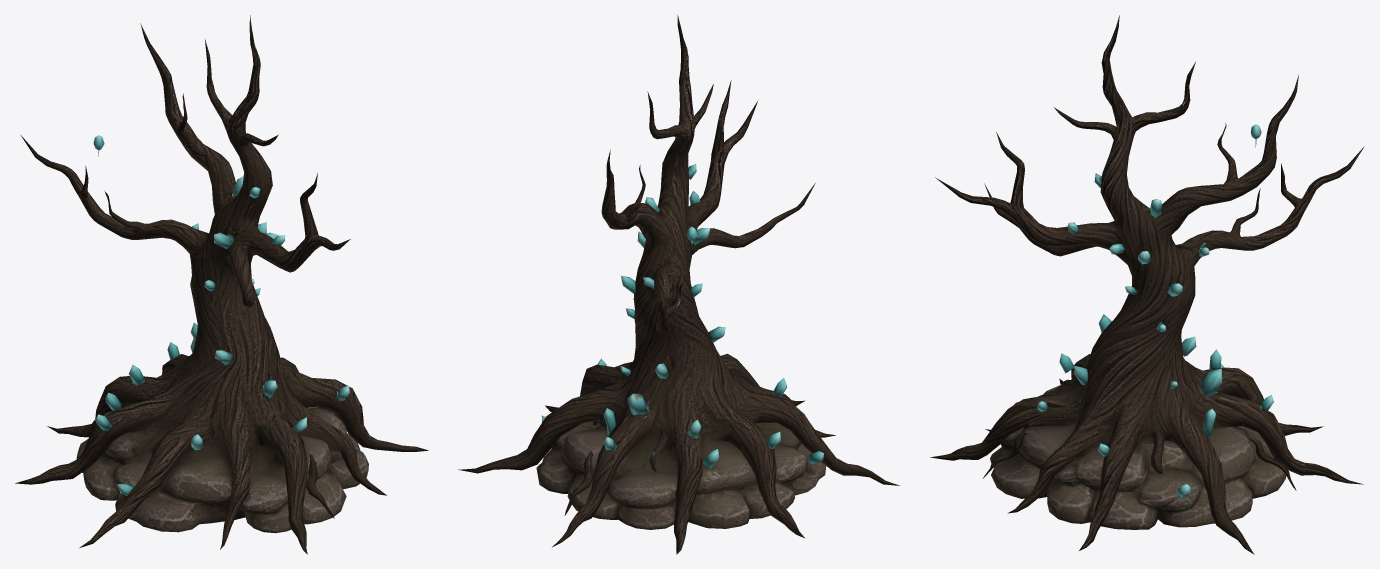
Rendered from tripo_convert_1d10e098-4205-49b0-ae51-91fbd6879b02.fbx.
3 renders of one model, left to right at view 1: azimuth 30°, elevation 25°; view 2: azimuth 150°, elevation 25°; view 3: azimuth 270°, elevation 25°, orthographic. The views are drawn at different scales.
Parts seen in each view (by area): view 1: tripo_node_1d10e098; view 2: tripo_node_1d10e098; view 3: tripo_node_1d10e098.
Part boxes in pixels (x1,y1,x2,y2): tripo_node_1d10e098: (15, 15, 428, 554); tripo_node_1d10e098: (458, 15, 899, 554); tripo_node_1d10e098: (930, 15, 1364, 554).
Size of the model in its own units: 0.8105 by 0.998 by 0.8457.
Materials: 1 (1 with a texture image).
